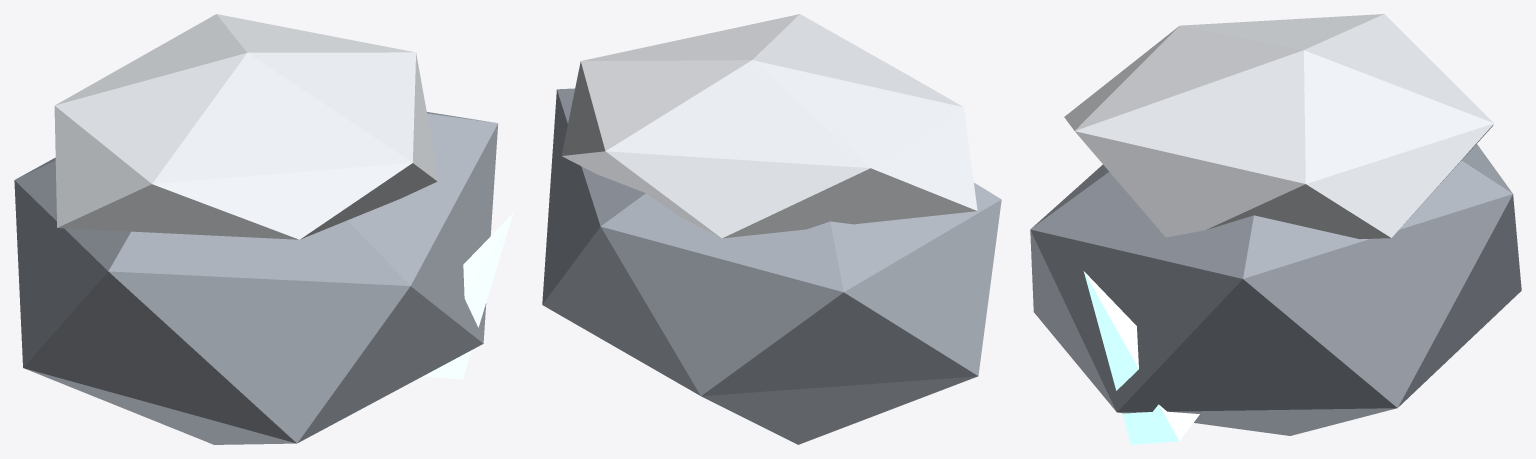
The model's file is ice_rock.glb.
3 views of the same model, side by side, from view 1: azimuth 30°, elevation 25°; view 2: azimuth 150°, elevation 25°; view 3: azimuth 270°, elevation 25° (orthographic). The views are drawn at different scales.
Parts seen in each view (by area): view 1: ice_rock; view 2: ice_rock; view 3: ice_rock.
Part boxes in pixels (x1,y1,x2,y2): ice_rock: [14, 14, 513, 444]; ice_rock: [542, 14, 1001, 444]; ice_rock: [1030, 14, 1521, 444].
Size of the model in its own units: 2.36 by 1.9 by 2.09.
